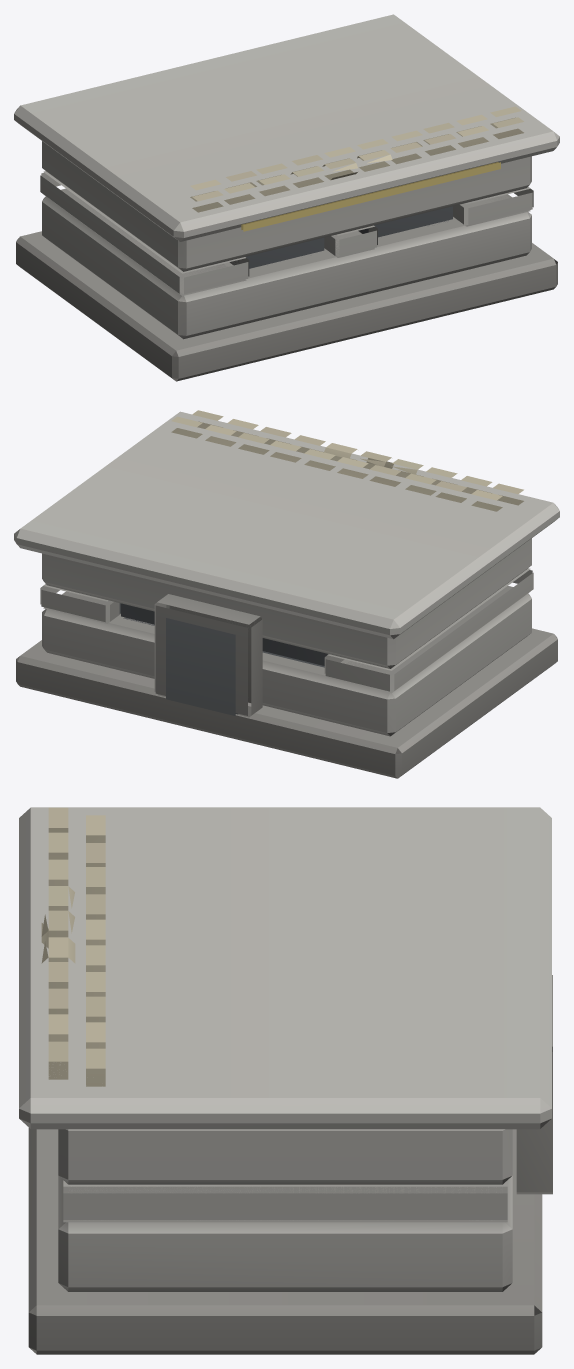
File: mil_bunker.lod.glb
3 views of the same model, one above another, from view 1: azimuth 30°, elevation 25°; view 2: azimuth 150°, elevation 25°; view 3: azimuth 270°, elevation 25° (orthographic). The views are drawn at different scales.
Visible parts, largest first — view 1: mil_bunker; view 2: mil_bunker; view 3: mil_bunker.
Boxes of the visible parts, left/top/right/bottom form: mil_bunker: left=14, top=14, right=559, bottom=381; mil_bunker: left=14, top=410, right=559, bottom=778; mil_bunker: left=19, top=807, right=552, bottom=1354.
Size of the model in its own units: 7.2 by 3.05 by 5.53.
